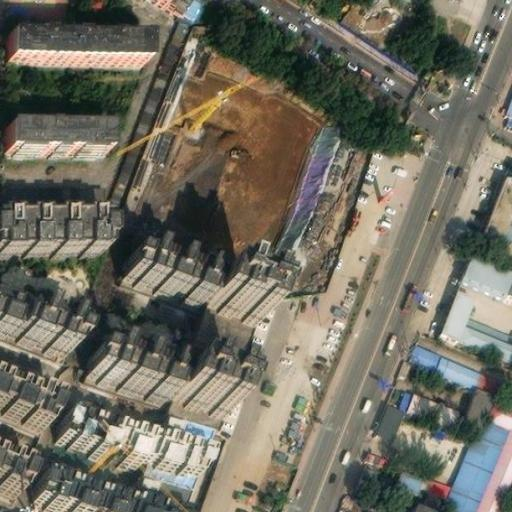building: (108, 12, 190, 195), (66, 403, 214, 476), (270, 120, 341, 255), (439, 390, 512, 512), (39, 468, 187, 512), (440, 283, 512, 359), (127, 242, 219, 299), (94, 336, 184, 393), (398, 382, 490, 432), (411, 338, 498, 390), (10, 27, 148, 57), (176, 358, 240, 414), (210, 264, 274, 319), (13, 299, 76, 354), (7, 118, 109, 150), (135, 459, 198, 510), (478, 161, 512, 242), (391, 463, 451, 504), (461, 249, 512, 293), (374, 396, 406, 433), (0, 457, 27, 494), (414, 495, 443, 512), (368, 502, 389, 512)
